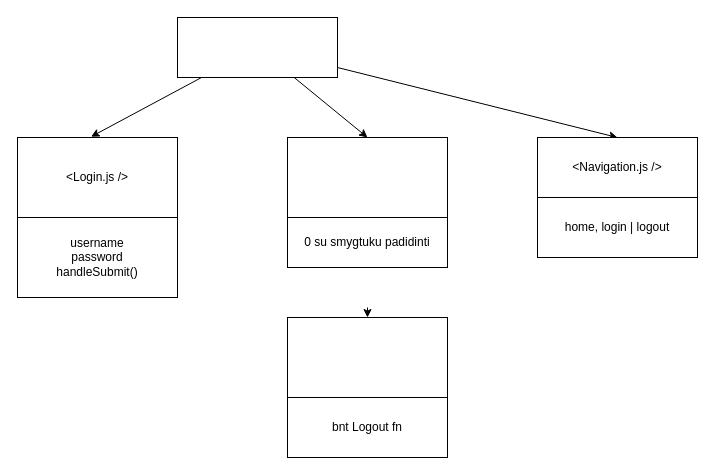
Image size: 715x475. Some labels were removed from this diagram. Each missing label, with the box of its shape:
<App.js />: (176, 16, 338, 78)
<Card.js />: (286, 316, 448, 398)
<Counter.js />: (286, 136, 448, 218)
